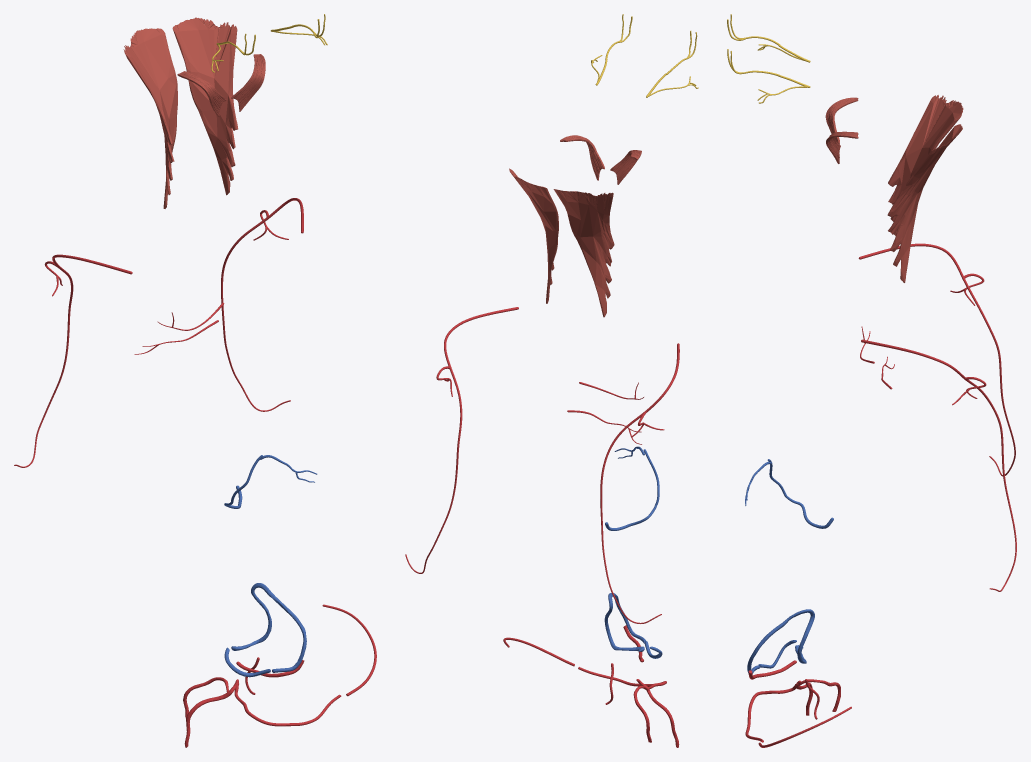
File: extras.glb
The picture shows the model from 3 angles, left to right: view 1: azimuth 30°, elevation 25°; view 2: azimuth 150°, elevation 25°; view 3: azimuth 270°, elevation 25°; orthographic projection. The views are drawn at different scales.
Parts seen in each view (by area): view 1: Semispinalis capitis muscle.l, Semispinalis capitis muscle.r, Dorsal scapular artery.r, Dorsal scapular artery.l, Left gastric vein, Levator veli palatini muscle.l; view 2: Semispinalis capitis muscle.r, Semispinalis capitis muscle.l, Dorsal scapular artery.l, Dorsal scapular artery.r, Left gastric vein; view 3: Semispinalis capitis muscle.r, Semispinalis capitis muscle.l, Dorsal scapular artery.l, Dorsal scapular artery.r, Left gastric vein.
Part boxes in pixels (left/top/right/bottom): Semispinalis capitis muscle.l: left=172, top=17, right=238, bottom=195; Semispinalis capitis muscle.r: left=123, top=28, right=177, bottom=208; Dorsal scapular artery.r: left=14, top=254, right=132, bottom=467; Dorsal scapular artery.l: left=221, top=198, right=303, bottom=411; Left gastric vein: left=231, top=583, right=306, bottom=672; Levator veli palatini muscle.l: left=231, top=54, right=265, bottom=111; Semispinalis capitis muscle.r: left=553, top=189, right=614, bottom=317; Semispinalis capitis muscle.l: left=509, top=168, right=558, bottom=303; Dorsal scapular artery.l: left=405, top=307, right=518, bottom=573; Dorsal scapular artery.r: left=600, top=343, right=679, bottom=623; Left gastric vein: left=604, top=593, right=645, bottom=651; Semispinalis capitis muscle.r: left=888, top=95, right=963, bottom=235; Semispinalis capitis muscle.l: left=887, top=124, right=962, bottom=282; Dorsal scapular artery.l: left=861, top=339, right=1016, bottom=591; Dorsal scapular artery.r: left=858, top=243, right=1015, bottom=476; Left gastric vein: left=747, top=609, right=814, bottom=673.
Bounding box in the file's own units: 0.2109 × 0.5377 × 0.1986.
